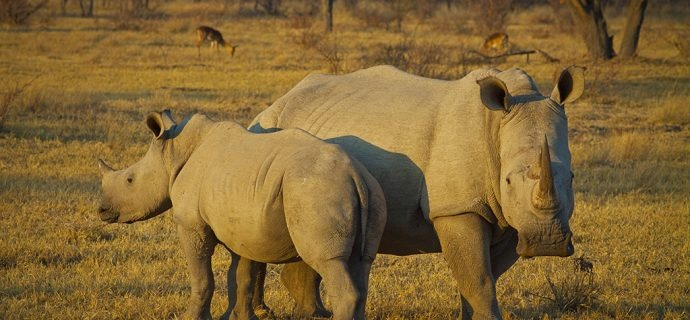rhino: (249, 64, 584, 319), (95, 109, 386, 319)
